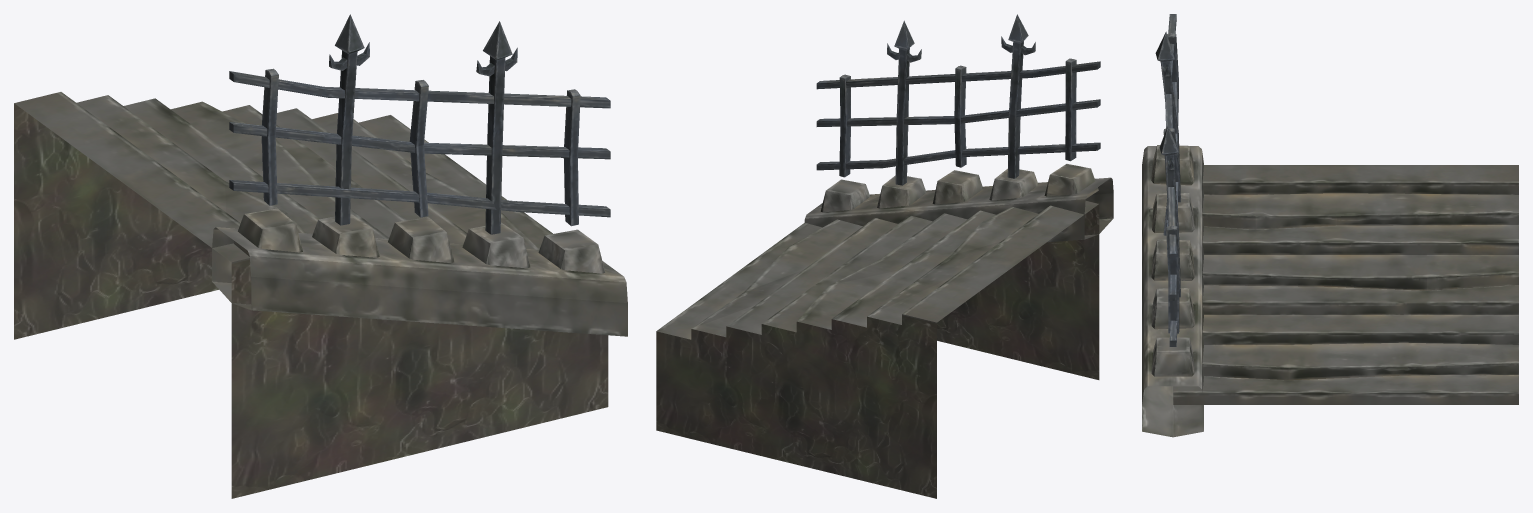
The model's file is Stairs_high_handrail_left.obj.
3 renders of one model, left to right at view 1: azimuth 30°, elevation 25°; view 2: azimuth 150°, elevation 25°; view 3: azimuth 270°, elevation 25°, orthographic. The views are drawn at different scales.
Parts seen in each view (by area): view 1: Stairs_high_handrail_left; view 2: Stairs_high_handrail_left; view 3: Stairs_high_handrail_left.
Part boxes in pixels (box(x1,y1,x2,y2)): Stairs_high_handrail_left: box(14, 14, 627, 498); Stairs_high_handrail_left: box(656, 14, 1113, 498); Stairs_high_handrail_left: box(1142, 14, 1518, 437).
Bounding box in the file's own units: 10 × 11.68 × 10.9.
